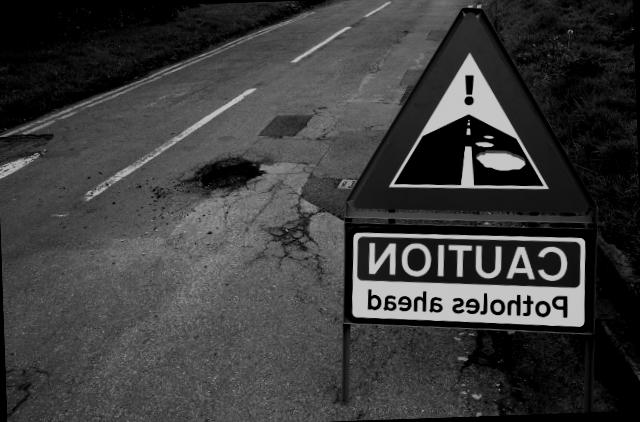Pothole: (180, 142, 267, 203)
